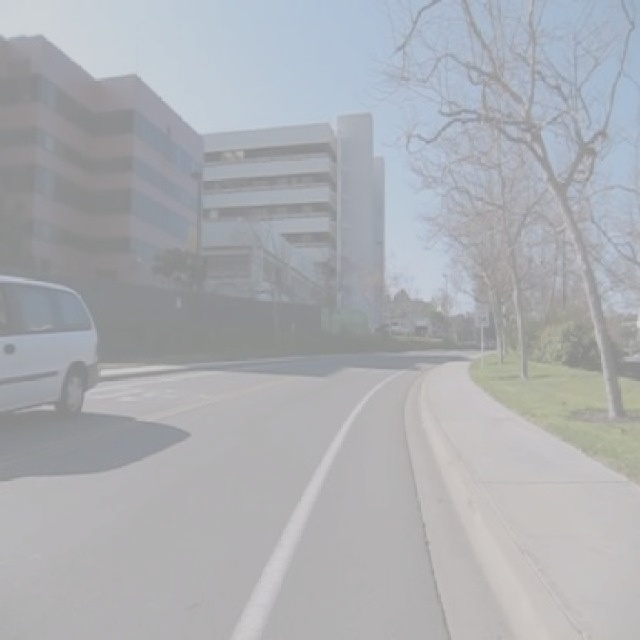speedLimit35: (472, 302, 488, 328)
